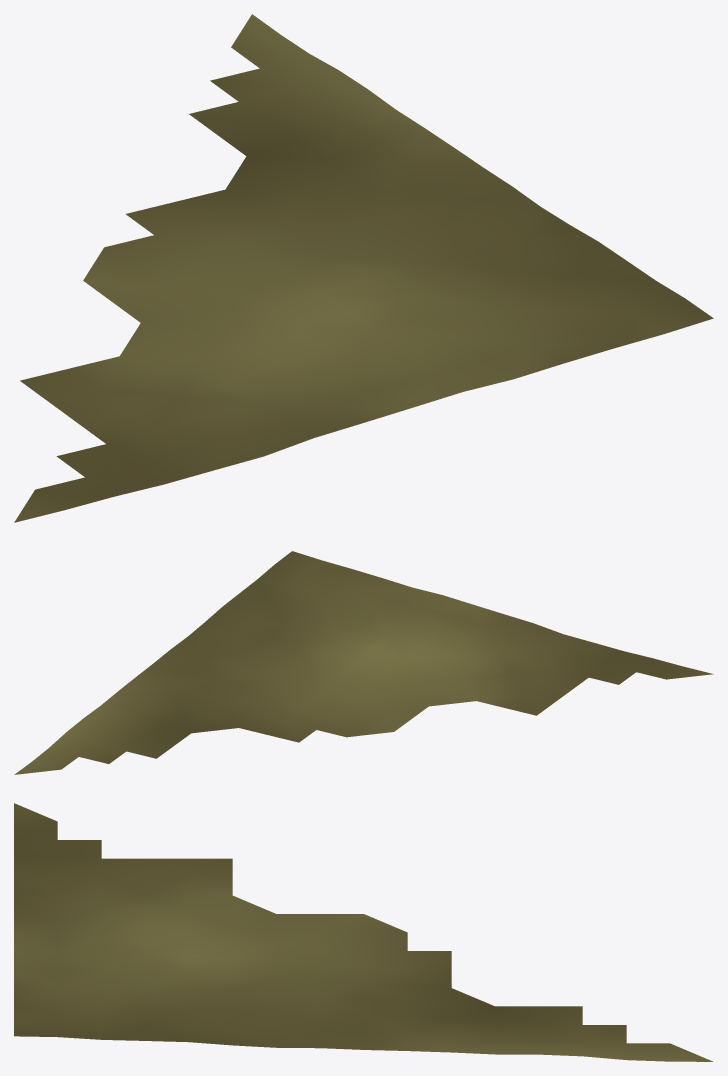
The model's file is terrain_lod1_-6_-2.obj.
3 renders of one model, top to bottom at view 1: azimuth 30°, elevation 25°; view 2: azimuth 150°, elevation 25°; view 3: azimuth 270°, elevation 25°, orthographic. The views are drawn at different scales.
Visible parts, largest first — view 1: terrain_lod1_-6_-2; view 2: terrain_lod1_-6_-2; view 3: terrain_lod1_-6_-2.
Part boxes in pixels (x1,y1,x2,y2): terrain_lod1_-6_-2: [14, 14, 713, 522]; terrain_lod1_-6_-2: [14, 551, 713, 774]; terrain_lod1_-6_-2: [14, 803, 713, 1061].
Bounding box in the file's own units: 112 × 5.15 × 128.
